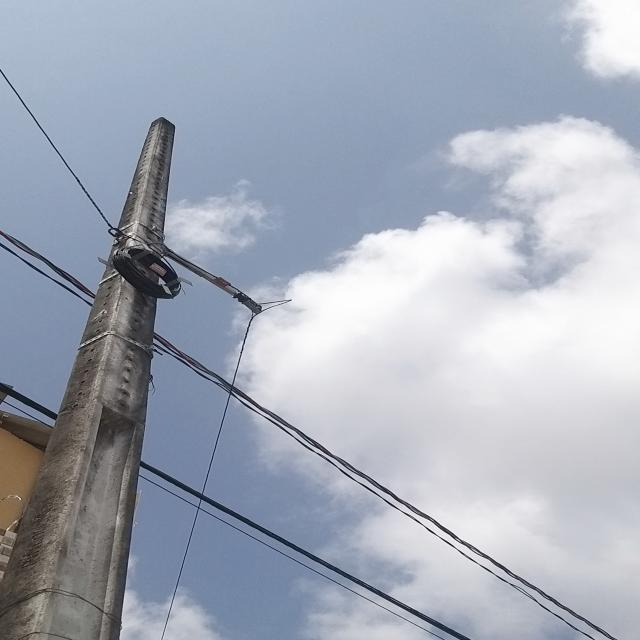Plaqueta: (149, 263, 167, 276), (214, 277, 232, 287)
